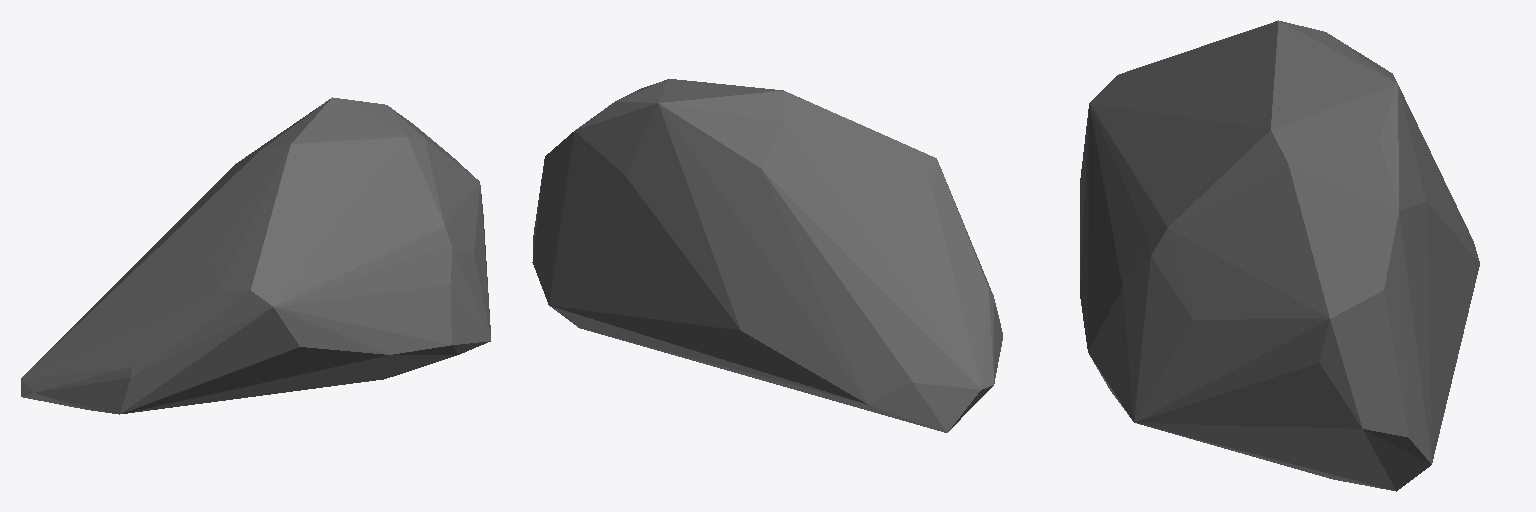
The robot description file, URDF, robot "80_179":
<?xml version="1.0"?>
<robot name="80_179">
  <link name="link">
    <contact>
      <lateral_friction value="0.6"/>
    </contact>
    <inertial>
      <origin xyz="0.004863348996981877 0.002179060282814073 -0.0050993017400011095" rpy="0 0 0"/>
      <mass value = "0.32288109348010247"/>
      <inertia ixx="9.386816185592777e-05" ixy="1.0065448341844586e-06" ixz="1.7454742638776327e-05" iyy="0.00020253041634835258" iyz="-4.817083599263768e-06" izz="0.00020266040698226222" />
    </inertial>
    <visual name="visual">
      <geometry>
        <mesh filename="80_179.obj"/>
      </geometry>
      <material name="material">
        <color rgba="0.45737080118532886 0.45737080118532886 0.45737080118532886 1.0"/>
      </material>
    </visual>
    <collision name="collision">
      <geometry>
        <mesh filename="80_179.obj"/>
      </geometry>
    </collision>
  </link>
</robot>

--- Facts derived from the render (not from the file) ---
Views: 3 orthographic renders of the robot side by side, from view 1: azimuth 30°, elevation 25°; view 2: azimuth 150°, elevation 25°; view 3: azimuth 270°, elevation 25°.
Robot: 80_179 — 1 links, 0 joints (none); root link link; default pose: every joint at zero.
Visible links, largest first — view 1: link; view 2: link; view 3: link.
Boxes of the visible links, x1,y1,x2,y2 form: link: (21,97,490,414); link: (532,79,1002,432); link: (1080,20,1479,491).
Bounding box of the posed robot: 0.1035 × 0.0544 × 0.0534 m (x, y, z).
Meshes: 1 distinct files referenced, 1 mesh visuals loaded (1 OBJ).
